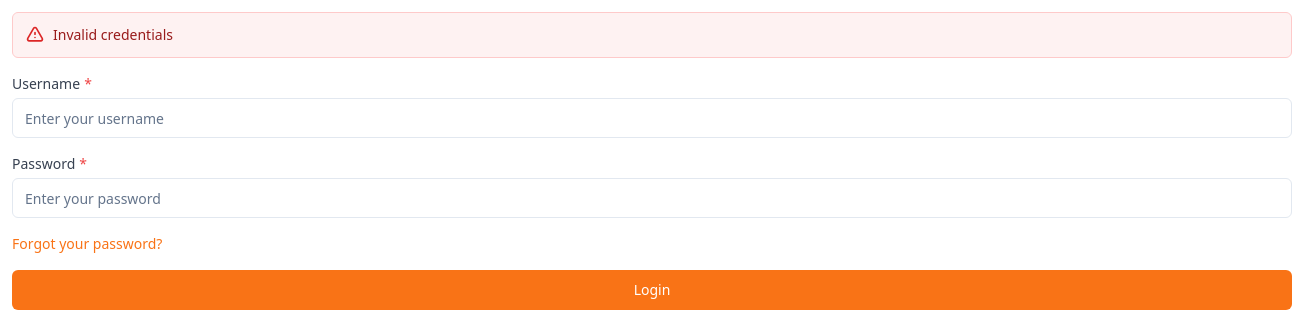
LoginForm › should clear error when user starts typing
The width and height of the screenshot is (1304, 327).
Expected: the text "Invalid credentials" is shown, [53,25,173,44]
Step 1. Type "a" into the field labelled "Username*" → [652, 118], box [12,98,1292,138]
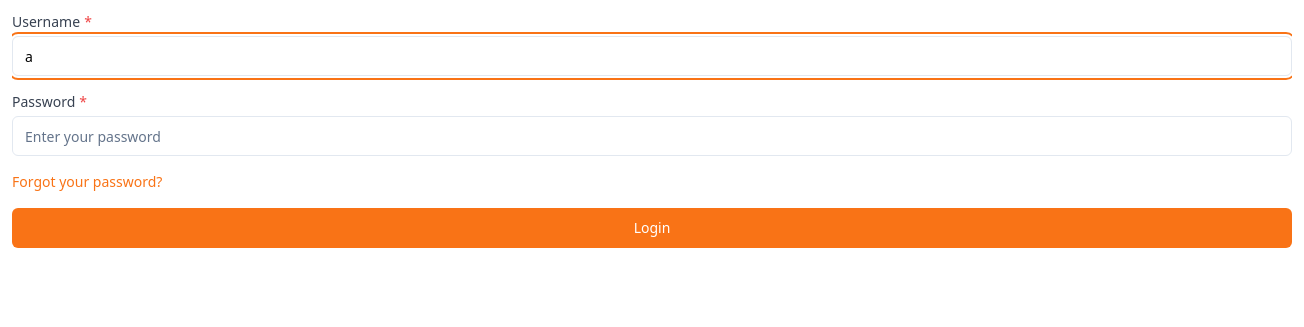
Expected: the text "Invalid credentials" is gone
